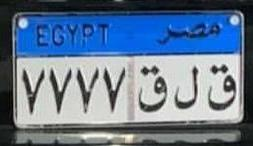7: (20, 66, 46, 115), (48, 65, 72, 118), (76, 64, 100, 116), (101, 66, 126, 115)
laam: (172, 61, 200, 113)
qaaf: (137, 62, 170, 116), (207, 61, 238, 113)
